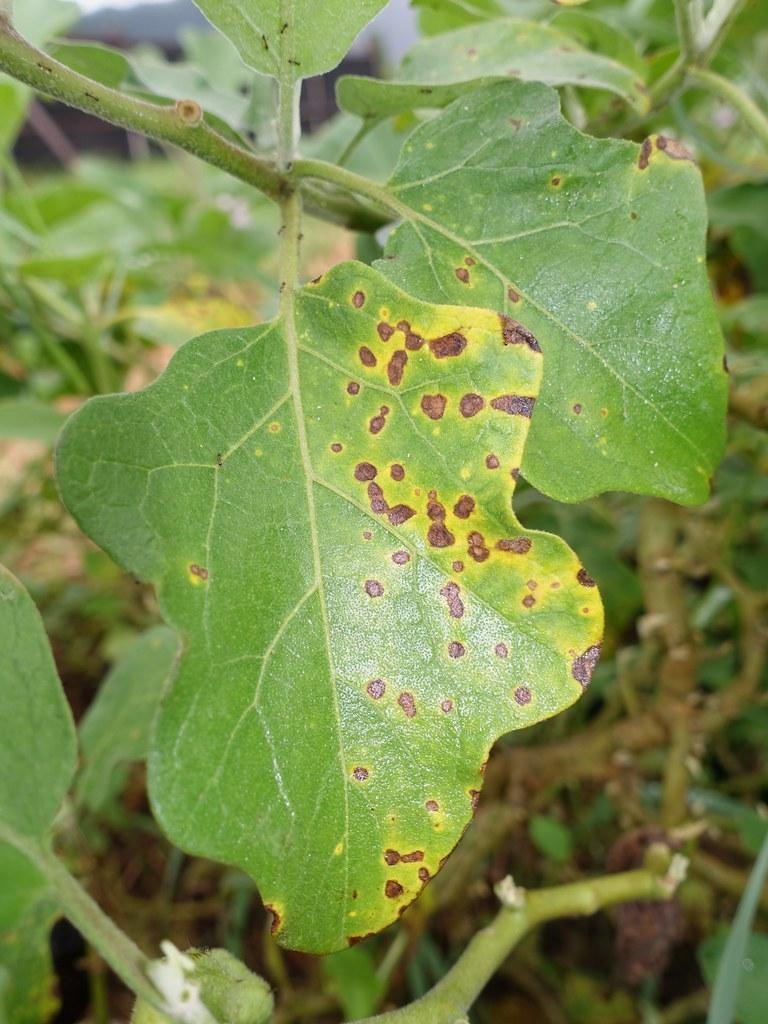black-spot: (319, 303, 495, 588)
